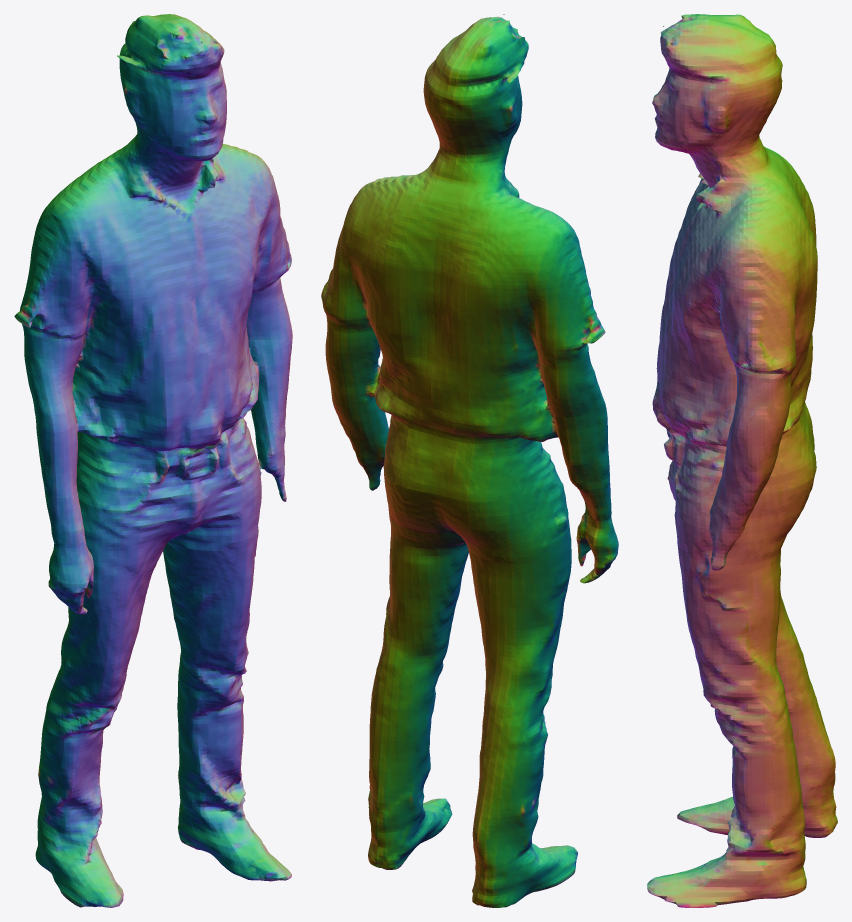
File: result_generated_256.obj
3 views of the same model, side by side, from view 1: azimuth 30°, elevation 25°; view 2: azimuth 150°, elevation 25°; view 3: azimuth 270°, elevation 25° (orthographic). The views are drawn at different scales.
Size of the model in its own units: 0.5758 by 1.72 by 0.3526.
